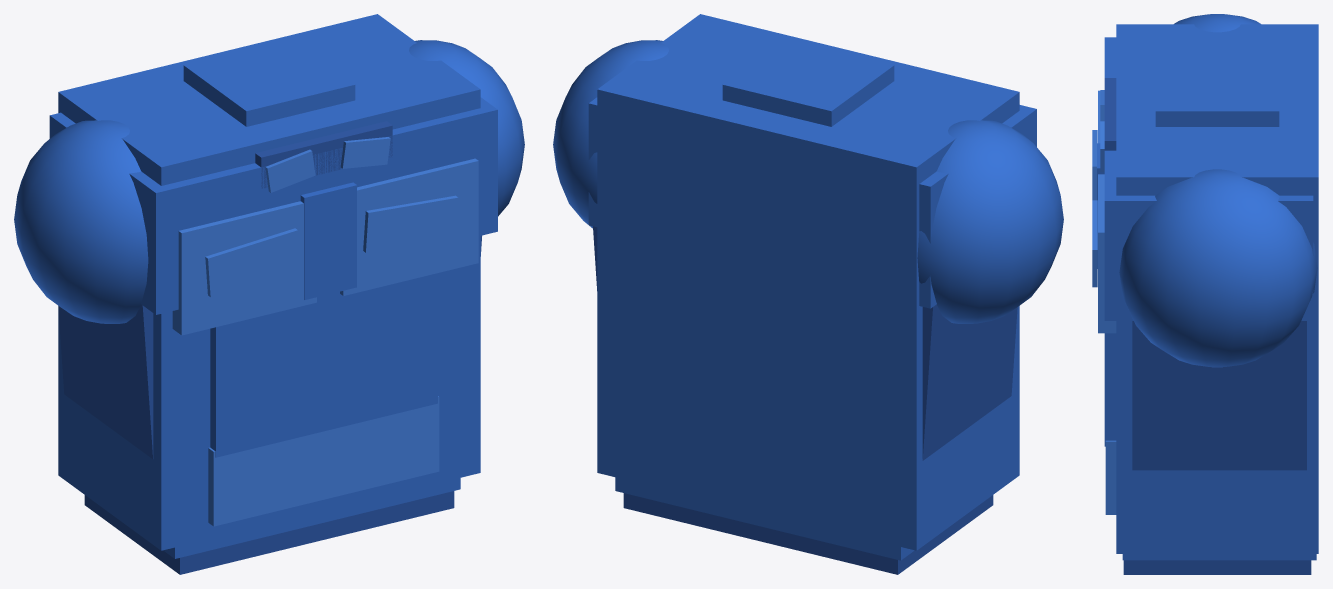
File: skomma_body_male_blue_01.glb
The picture shows the model from 3 angles, left to right: view 1: azimuth 30°, elevation 25°; view 2: azimuth 150°, elevation 25°; view 3: azimuth 270°, elevation 25°; orthographic projection.
Visible parts, largest first — view 1: Torso, Front_Shirt_Panel, Left_Shoulder_Volume, Upper_Chest, Waist_Front, Left_Side_Torso, Left_Chest, NeckBase, Right_Chest, Shirt_Hem, Center_Chest, Right_Shoulder_Volume (+6 smaller); view 2: Torso, Left_Shoulder_Volume, Left_Side_Torso, NeckBase, Right_Shoulder_Volume, Shirt_Hem, Lower_Torso, Upper_Chest; view 3: Torso, Right_Shoulder_Volume, Right_Side_Torso, NeckBase, Upper_Chest, Shirt_Hem, Front_Shirt_Panel, Lower_Torso, Right_Chest, Left_Shoulder_Volume, Shirt_Collar, Waist_Front (+2 smaller).
Boxes of the visible parts, <box> form: Torso: <box>58,14,480,550</box>; Front_Shirt_Panel: <box>210,273,437,457</box>; Left_Shoulder_Volume: <box>14,120,148,323</box>; Upper_Chest: <box>49,97,497,314</box>; Waist_Front: <box>208,396,439,526</box>; Left_Side_Torso: <box>58,304,153,459</box>; Left_Chest: <box>172,201,316,335</box>; NeckBase: <box>183,38,355,126</box>; Right_Chest: <box>340,158,478,295</box>; Shirt_Hem: <box>84,491,454,574</box>; Center_Chest: <box>300,182,356,300</box>; Right_Shoulder_Volume: <box>409,40,524,216</box>; Torso: <box>597,14,1019,550</box>; Left_Shoulder_Volume: <box>917,120,1063,323</box>; Left_Side_Torso: <box>922,304,1017,460</box>; NeckBase: <box>722,38,894,126</box>; Right_Shoulder_Volume: <box>553,40,668,228</box>; Shirt_Hem: <box>623,493,993,574</box>; Lower_Torso: <box>615,477,914,560</box>; Upper_Chest: <box>588,97,1036,308</box>; Torso: <box>1116,24,1318,553</box>; Right_Shoulder_Volume: <box>1119,169,1317,367</box>; Right_Side_Torso: <box>1132,321,1306,470</box>; NeckBase: <box>1155,59,1279,126</box>; Upper_Chest: <box>1104,37,1313,320</box>; Shirt_Hem: <box>1123,560,1311,574</box>; Front_Shirt_Panel: <box>1104,333,1116,446</box>; Lower_Torso: <box>1122,554,1316,560</box>; Right_Chest: <box>1098,174,1116,333</box>; Left_Shoulder_Volume: <box>1174,14,1260,32</box>; Shirt_Collar: <box>1104,78,1116,150</box>; Waist_Front: <box>1105,440,1116,514</box>.
Bounding box in the file's own units: 2.55 × 2.2 × 1.06.
